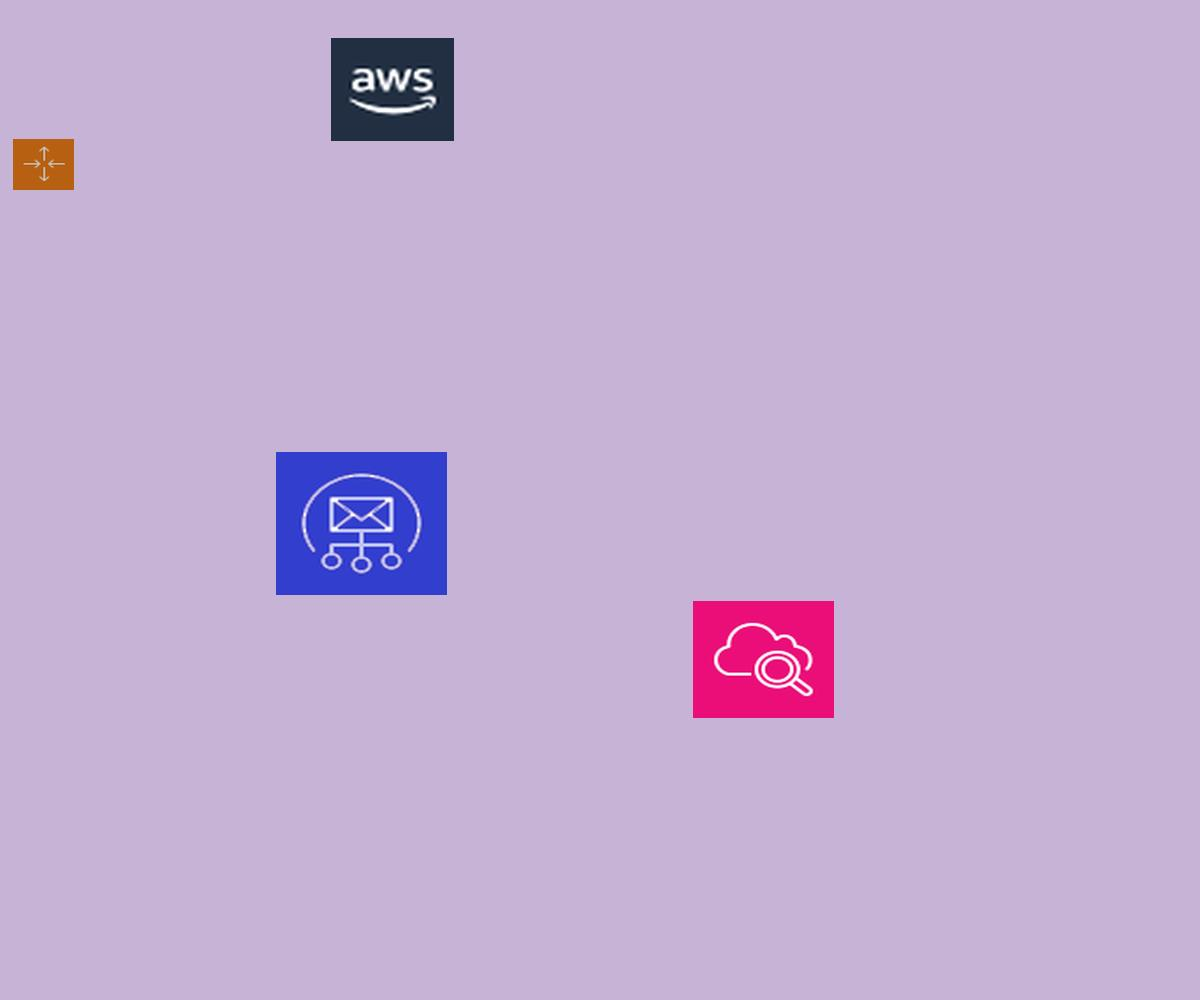AWS-Cloud-logo: (331, 38, 454, 141)
AWS-CloudWatch: (693, 601, 834, 718)
AWS-Scaling-group: (13, 139, 74, 190)
AWS-Simple-Email-Service: (276, 452, 447, 595)
